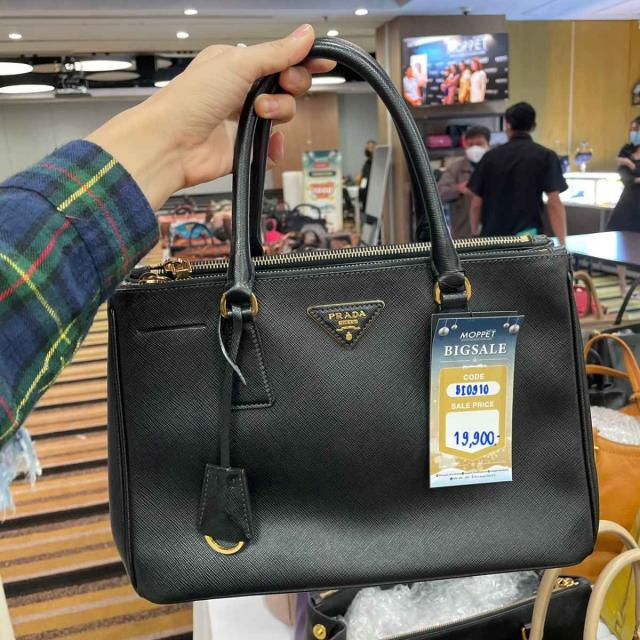Handbag: (91, 208, 617, 604)
